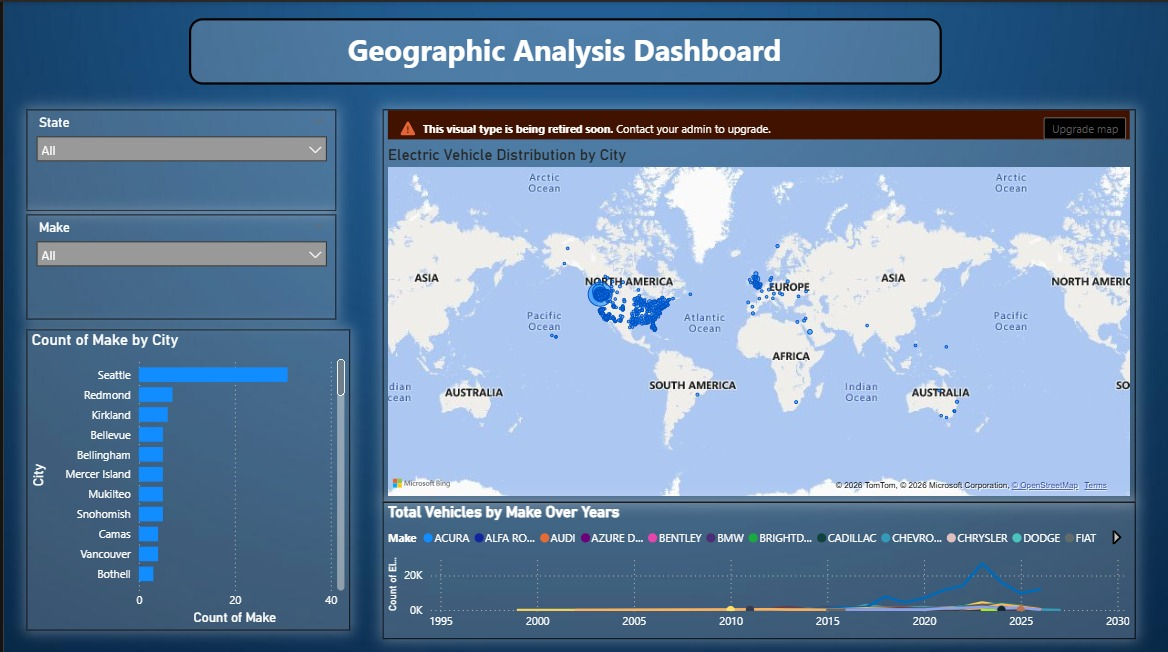

This screenshot's page, from the dashboard's own definition file:
{"tool":"powerbi","page":{"name":"Geographic Analysis","canvas":[1280,720],"ordinal":1},"visuals":[{"type":"map","title":"Electric Vehicle Distribution by City","fields":{"Category":["Electric_Vehicle_Population_Data.City"],"Size":["CountNonNull(Electric_Vehicle_Population_Data.Make)"]},"box":[415.8,118,826.1,430.9],"z":0},{"type":"clusteredBarChart","fields":{"Category":["Electric_Vehicle_Population_Data.City"],"Y":["CountNonNull(Electric_Vehicle_Population_Data.Make)"]},"box":[24.7,359.5,355.4,330.7],"z":1},{"type":"slicer","fields":{"Values":["Electric_Vehicle_Population_Data.State"]},"box":[24.7,118,340.3,111.1],"z":2},{"type":"slicer","fields":{"Values":["Electric_Vehicle_Population_Data.Make"]},"box":[24.7,233.3,340.3,115.3],"z":3},{"type":"textbox","box":[203.1,17.8,826.1,72.7],"z":4},{"type":"lineChart","title":"Total Vehicles by Make Over Years","fields":{"Category":["Electric_Vehicle_Population_Data.Model Year"],"Y":["CountNonNull(Electric_Vehicle_Population_Data.Electric Vehicle Type)"],"Series":["Electric_Vehicle_Population_Data.Make"]},"box":[416,549,826,150],"z":5}]}

Visuals, with their boxes in screenshot pixels (x1, y1, x2, y2), scaled from the page's 1280x720 canvas onto the 1168x652 screenshot:
"Electric Vehicle Distribution by City" map: 379 107 1133 497
clusteredBarChart - Electric_Vehicle_Population_Data.City x CountNonNull(Electric_Vehicle_Population_Data.Make): 23 326 347 625
slicer - Electric_Vehicle_Population_Data.State: 23 107 333 207
slicer - Electric_Vehicle_Population_Data.Make: 23 211 333 316
textbox: 185 16 939 82
"Total Vehicles by Make Over Years" lineChart: 380 497 1133 633
